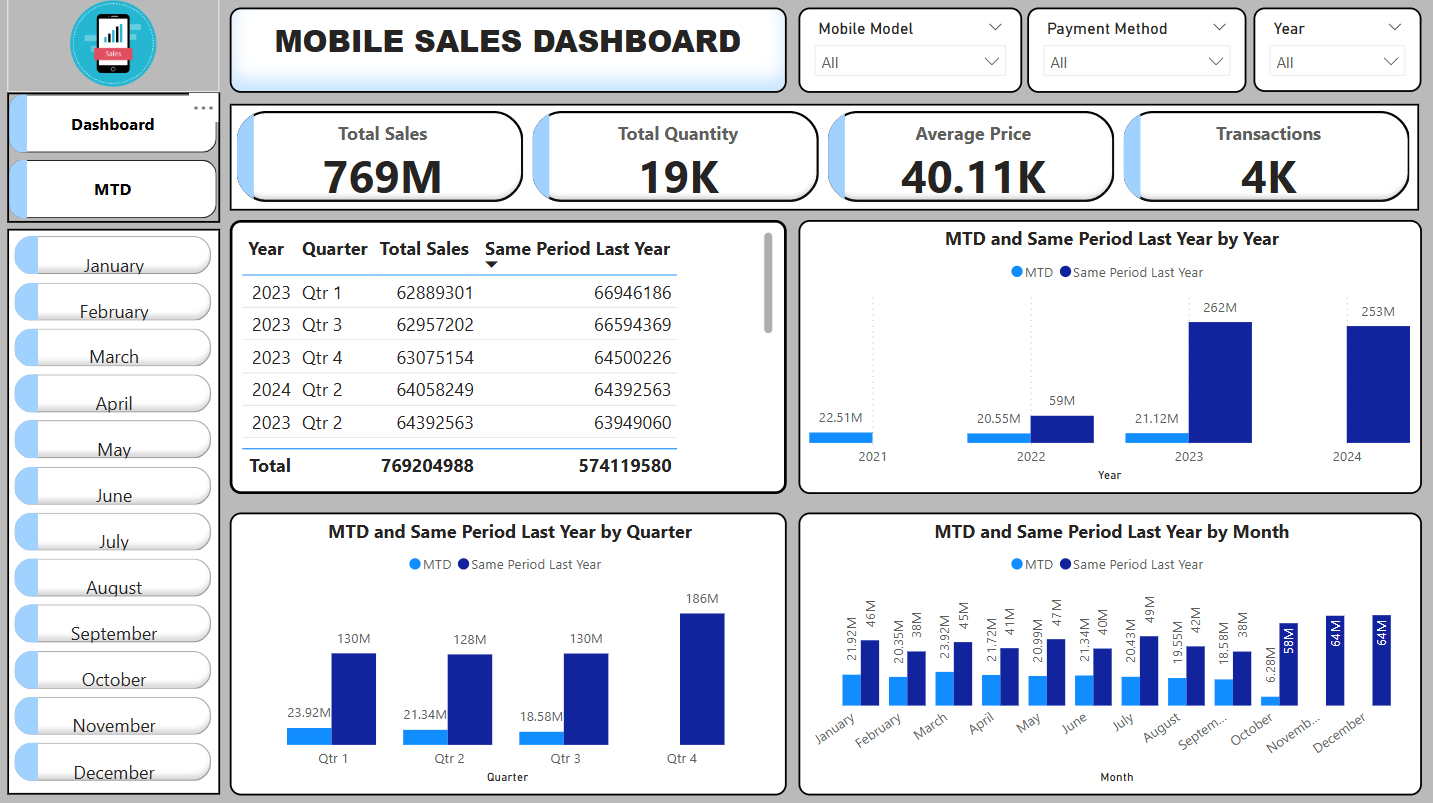

The dashboard page shown, as its layout file describes it:
{"tool":"powerbi","page":{"name":"Same Period Last Year ","canvas":[1280,720],"ordinal":2},"visuals":[{"type":"slicer","fields":{"Values":["Sales_Data.Payment Method"]},"box":[918.5,10.8,195.1,75.9],"z":0},{"type":"slicer","fields":{"Values":["Custom_Calendar.Date.Variation.Date Hierarchy.Year","Custom_Calendar.Date.Variation.Date Hierarchy.Quarter","Custom_Calendar.Date.Variation.Date Hierarchy.Month","Custom_Calendar.Date.Variation.Date Hierarchy.Day"]},"box":[1119.7,11,149.6,75.5],"z":1000},{"type":"cardVisual","fields":{"Data":["Sales_Data.Total Sales","Sales_Data.Total Quantity","Sales_Data.Average Price","Sales_Data.Transactions"]},"box":[208.7,96.5,1059.3,95.3],"z":2000},{"type":"slicer","fields":{"Values":["Sales_Data.Mobile Model"]},"box":[714.2,10.9,199.1,76],"z":3000},{"type":"textbox","box":[208.7,10.9,495.8,76],"z":4000},{"type":"tableEx","fields":{"Values":["Custom_Calendar.Date.Variation.Date Hierarchy.Year","Custom_Calendar.Date.Variation.Date Hierarchy.Quarter","Sales_Data.Total Sales","Sales_Data.Same Period Last Year"]},"box":[208.7,200.3,495.8,243.7],"z":5000},{"type":"advancedSlicerVisual","fields":{"Values":["Custom_Calendar.Date.Variation.Date Hierarchy.Month"]},"box":[9.7,208.7,189.4,504.3],"z":6000},{"type":"clusteredColumnChart","fields":{"Category":["Custom_Calendar.Date.Variation.Date Hierarchy.Year","Custom_Calendar.Date.Variation.Date Hierarchy.Quarter","Custom_Calendar.Date.Variation.Date Hierarchy.Month","Custom_Calendar.Date.Variation.Date Hierarchy.Day"],"Y":["Sales_Data.MTD","Sales_Data.Same Period Last Year"]},"box":[714.2,200.3,555,243.7],"z":6001},{"type":"clusteredColumnChart","fields":{"Category":["Custom_Calendar.Date.Variation.Date Hierarchy.Year","Custom_Calendar.Date.Variation.Date Hierarchy.Quarter","Custom_Calendar.Date.Variation.Date Hierarchy.Month","Custom_Calendar.Date.Variation.Date Hierarchy.Day"],"Y":["Sales_Data.MTD","Sales_Data.Same Period Last Year"]},"box":[714.2,460.9,555,252.1],"z":6002},{"type":"clusteredColumnChart","fields":{"Category":["Custom_Calendar.Date.Variation.Date Hierarchy.Year","Custom_Calendar.Date.Variation.Date Hierarchy.Quarter","Custom_Calendar.Date.Variation.Date Hierarchy.Month","Custom_Calendar.Date.Variation.Date Hierarchy.Day"],"Y":["Sales_Data.MTD","Sales_Data.Same Period Last Year"]},"box":[208.7,460.9,495.8,252.1],"z":6003},{"type":"pageNavigator","box":[9.7,86.9,189.4,115.8],"z":6004},{"type":"image","box":[9.7,0,189.4,86.9],"z":6005}]}

Visuals, with their boxes on the page's 1280x720 design canvas (x1, y1, x2, y2). These are canvas units, not pixel positions in the 1433x803 screenshot, which may show the page scaled, cropped or inside an application window:
slicer - Sales_Data.Payment Method: 918:11:1114:87
slicer - Custom_Calendar.Date.Variation.Date Hierarchy.Year x Custom_Calendar.Date.Variation.Date Hierarchy.Quarter: 1120:11:1269:86
cardVisual - Sales_Data.Total Sales x Sales_Data.Total Quantity: 209:96:1268:192
slicer - Sales_Data.Mobile Model: 714:11:913:87
textbox: 209:11:704:87
tableEx - Custom_Calendar.Date.Variation.Date Hierarchy.Year x Custom_Calendar.Date.Variation.Date Hierarchy.Quarter: 209:200:704:444
advancedSlicerVisual - Custom_Calendar.Date.Variation.Date Hierarchy.Month: 10:209:199:713
clusteredColumnChart - Custom_Calendar.Date.Variation.Date Hierarchy.Year x Custom_Calendar.Date.Variation.Date Hierarchy.Quarter: 714:200:1269:444
clusteredColumnChart - Custom_Calendar.Date.Variation.Date Hierarchy.Year x Custom_Calendar.Date.Variation.Date Hierarchy.Quarter: 714:461:1269:713
clusteredColumnChart - Custom_Calendar.Date.Variation.Date Hierarchy.Year x Custom_Calendar.Date.Variation.Date Hierarchy.Quarter: 209:461:704:713
pageNavigator: 10:87:199:203
image: 10:0:199:87
